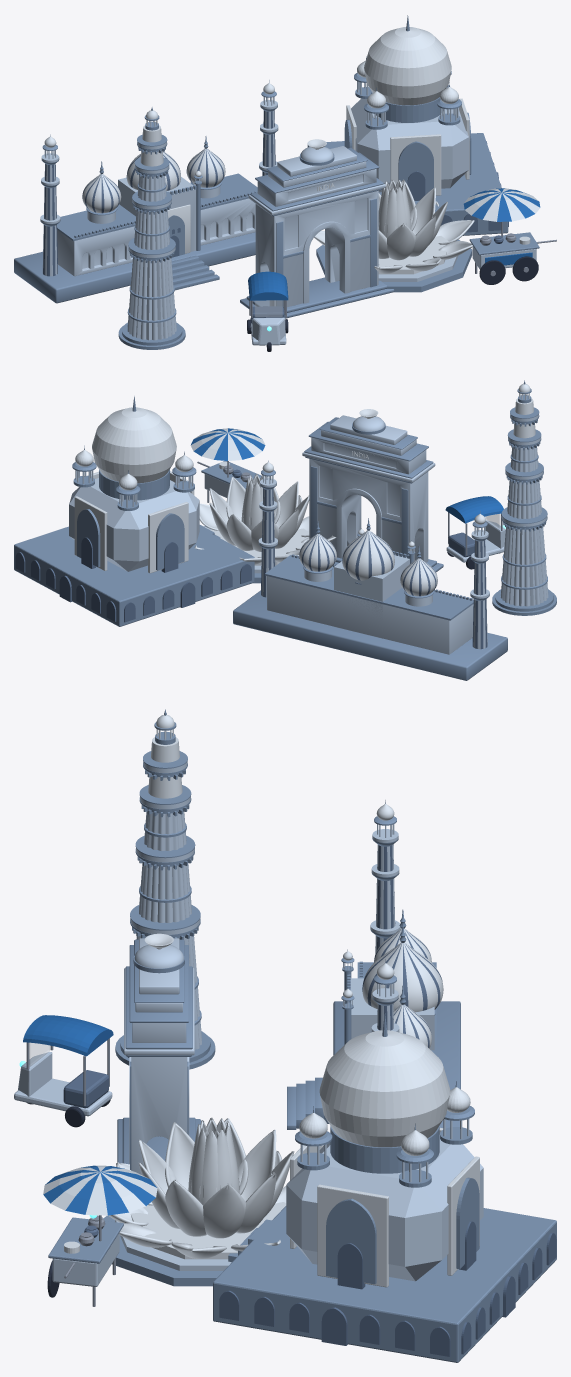
File: delhi.glb
3 views of the same model, one above another, from view 1: azimuth 30°, elevation 25°; view 2: azimuth 150°, elevation 25°; view 3: azimuth 270°, elevation 25° (orthographic). The views are drawn at different scales.
Parts seen in each view (by area): view 1: jamaMasjid, humayun, indiaGate, qutub, lotus, chaat, auto; view 2: humayun, jamaMasjid, indiaGate, qutub, lotus, chaat, auto; view 3: humayun, lotus, jamaMasjid, indiaGate, qutub, chaat, auto.
Part boxes in pixels (box(x1,y1,x2,y2)): jamaMasjid: box(14, 80, 278, 303); humayun: box(307, 15, 508, 235); indiaGate: box(240, 139, 394, 318); qutub: box(118, 107, 185, 349); lotus: box(314, 179, 474, 292); chaat: box(463, 188, 556, 284); auto: box(247, 271, 288, 351); humayun: box(14, 396, 254, 626); jamaMasjid: box(233, 460, 507, 680); indiaGate: box(302, 409, 443, 572); qutub: box(492, 380, 556, 615); lotus: box(194, 473, 336, 583); chaat: box(190, 428, 265, 502); auto: box(445, 496, 505, 569); humayun: box(213, 1012, 556, 1362); lotus: box(103, 1117, 294, 1286); jamaMasjid: box(287, 800, 460, 1129); indiaGate: box(117, 933, 201, 1174); qutub: box(115, 709, 215, 1069); chaat: box(43, 1165, 157, 1306); auto: box(14, 1015, 113, 1127).
Size of the model in its own units: 13.24 by 6.19 by 8.9.
